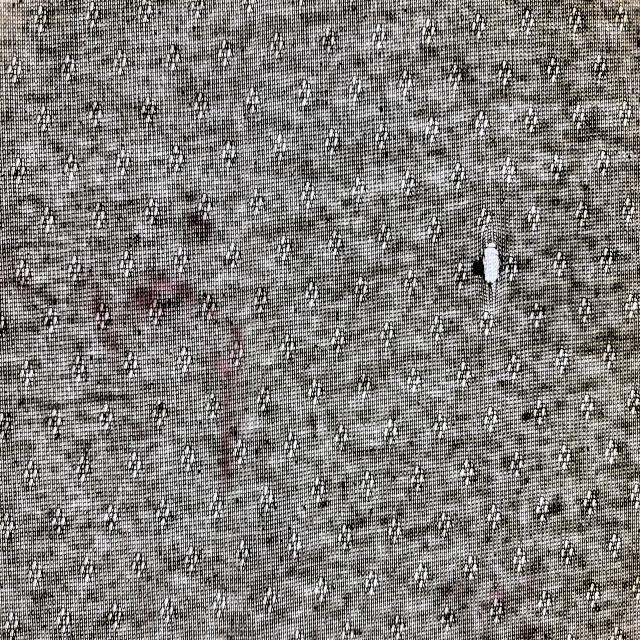cut: (481, 236, 504, 292)
